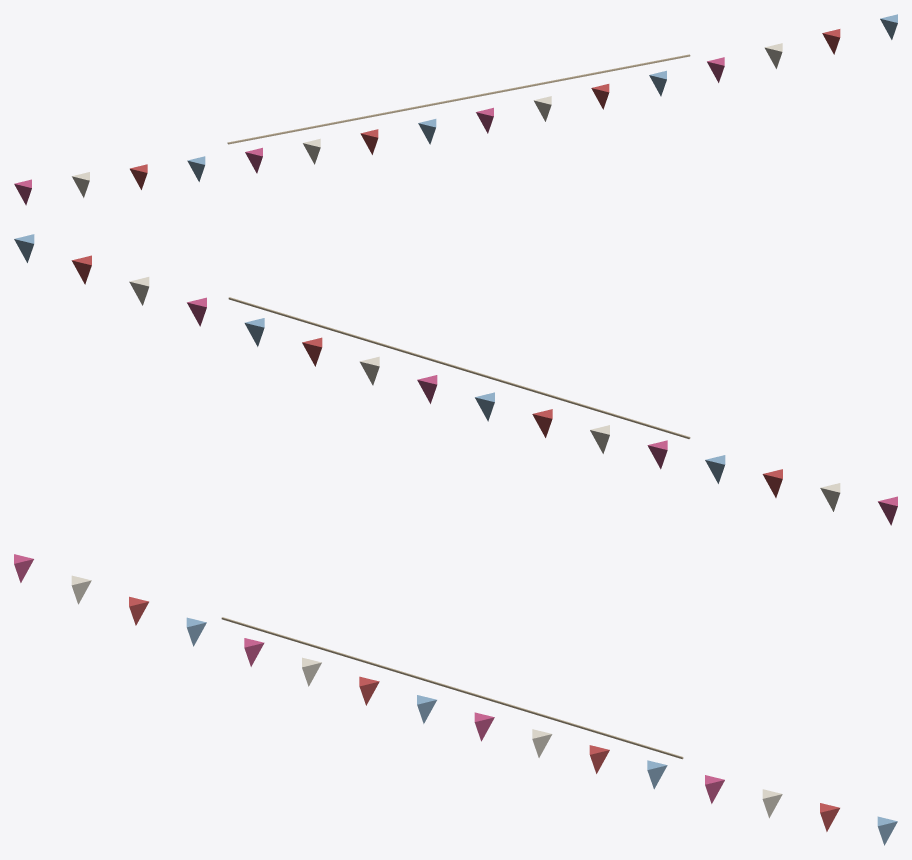
The model's file is Bunting_2.glb.
The picture shows the model from 3 angles, top to bottom: view 1: azimuth 30°, elevation 25°; view 2: azimuth 150°, elevation 25°; view 3: azimuth 330°, elevation 25°; orthographic projection. The views are drawn at different scales.
Visible parts, largest first — view 1: Bunting_2; view 2: Bunting_2; view 3: Bunting_2.
Boxes of the visible parts, x1=… form: Bunting_2: x1=14, y1=14, x2=897, y2=205; Bunting_2: x1=14, y1=234, x2=897, y2=525; Bunting_2: x1=14, y1=554, x2=897, y2=845.
Size of the model in its own units: 4.79 by 0.2235 by 0.5588.
